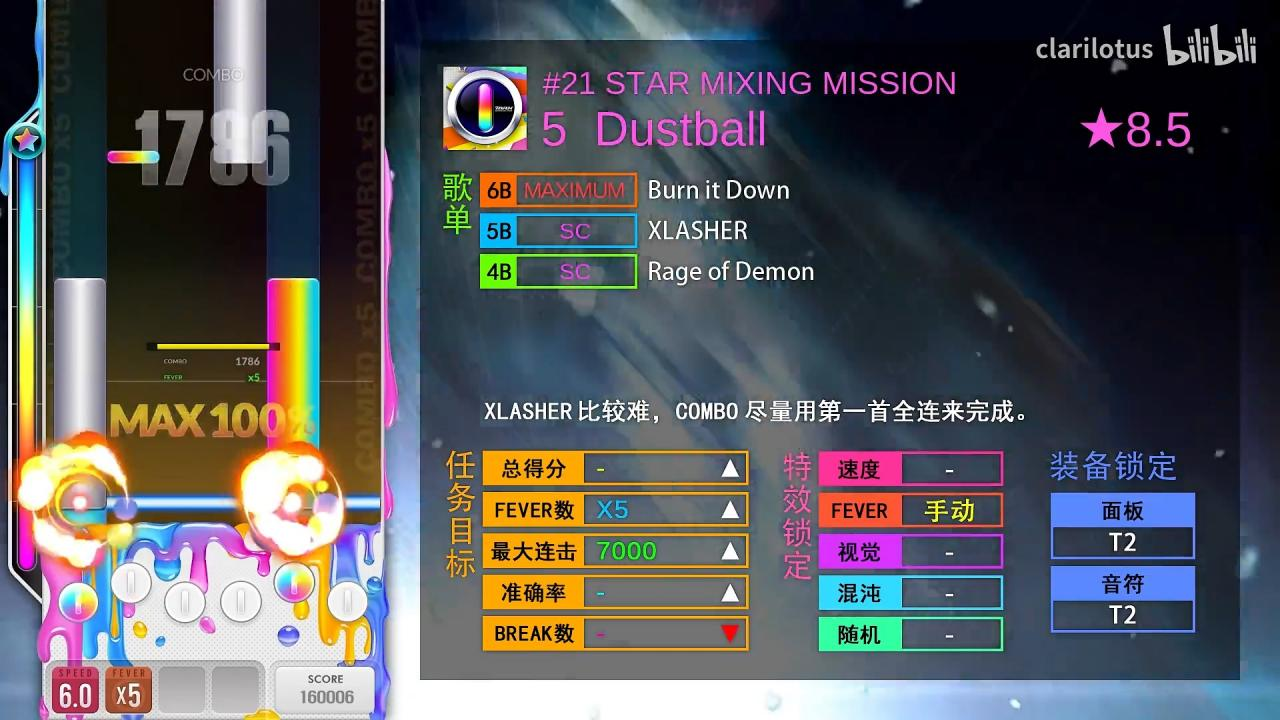hold-end: (54, 278, 106, 289), (268, 278, 319, 289)
hold-start: (214, 152, 267, 164)
note: (107, 150, 160, 164)
